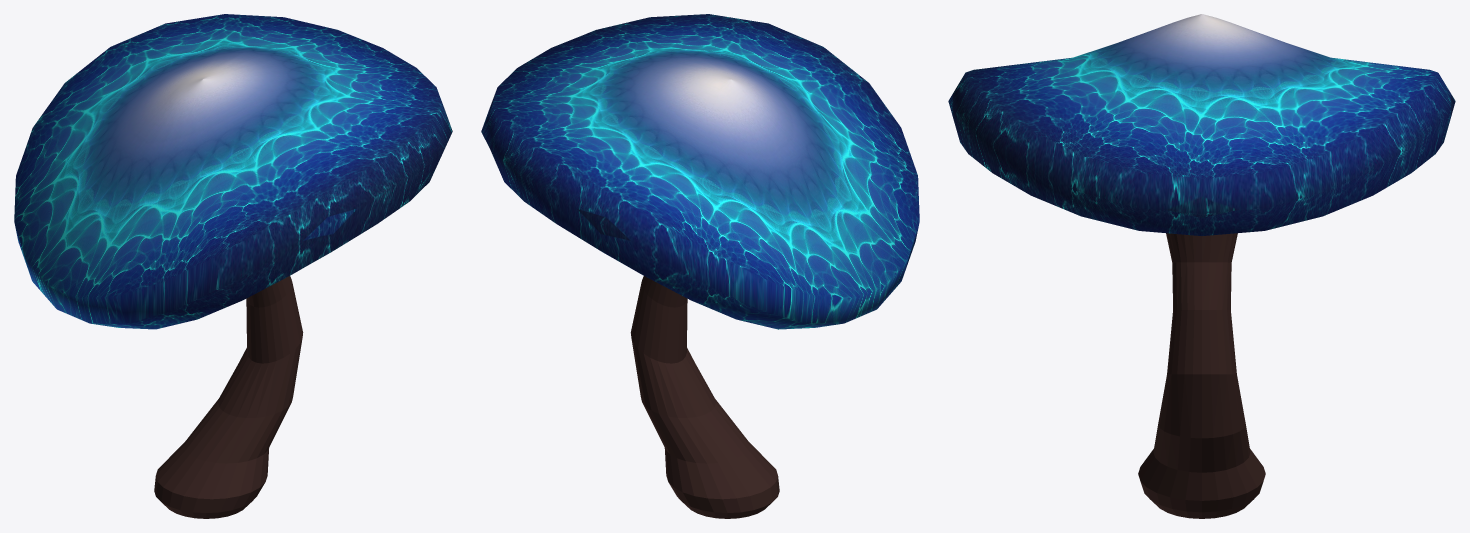
File: mushroom.FBX
3 views of the same model, side by side, from view 1: azimuth 30°, elevation 25°; view 2: azimuth 150°, elevation 25°; view 3: azimuth 270°, elevation 25° (orthographic). The views are drawn at different scales.
Parts seen in each view (by area): view 1: Cone001; view 2: Cone001; view 3: Cone001.
Part boxes in pixels (left/top/right/bottom): Cone001: left=14, top=14, right=452, bottom=518; Cone001: left=481, top=14, right=919, bottom=518; Cone001: left=948, top=14, right=1455, bottom=518.
Size of the model in its own units: 281 by 305 by 287.
4 materials, 2 textured.
